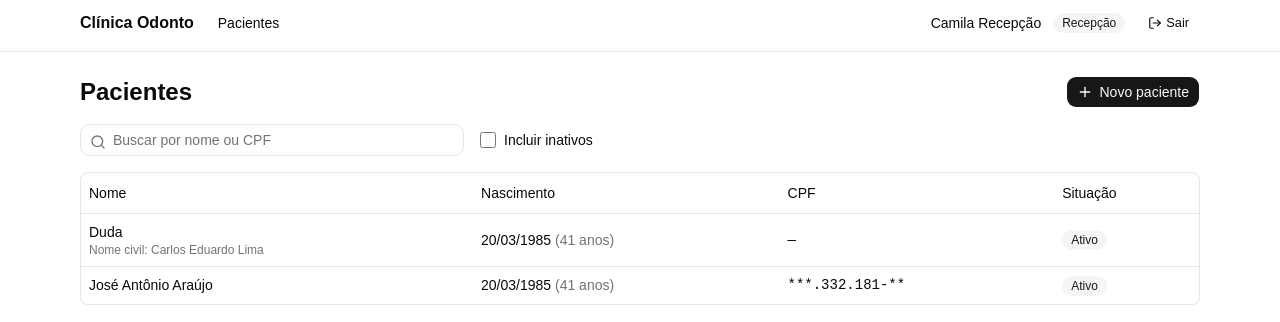
Test case: lista de pacientes › busca sem acento e guarda o termo na URL
The width and height of the screenshot is (1280, 322).
Expected: the text "Duda" is shown, x1=89 y1=224 x2=122 y2=240
Type "jose antonio" into the search field labelled "Buscar por nome ou CPF".
click(272, 140); type("jose antonio")  # box x1=80 y1=124 x2=464 y2=156
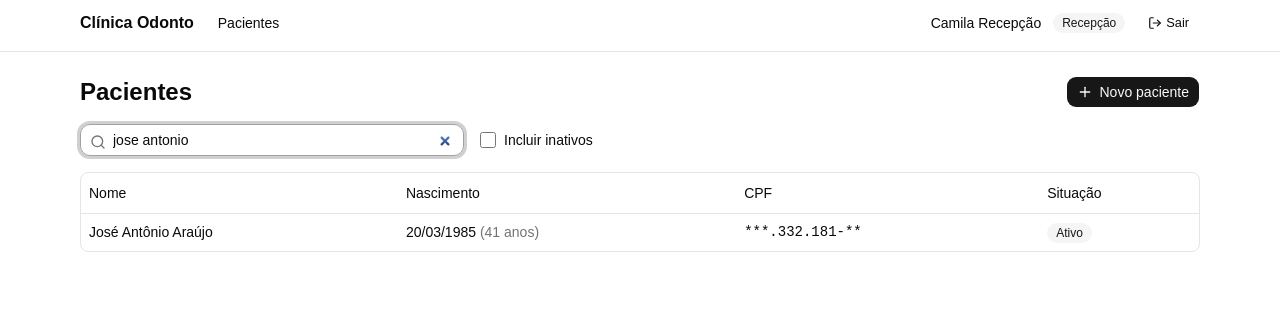
Expected: the text "José Antônio Araújo" is shown, x1=89 y1=224 x2=213 y2=240
Expected: the link "Duda" is gone
